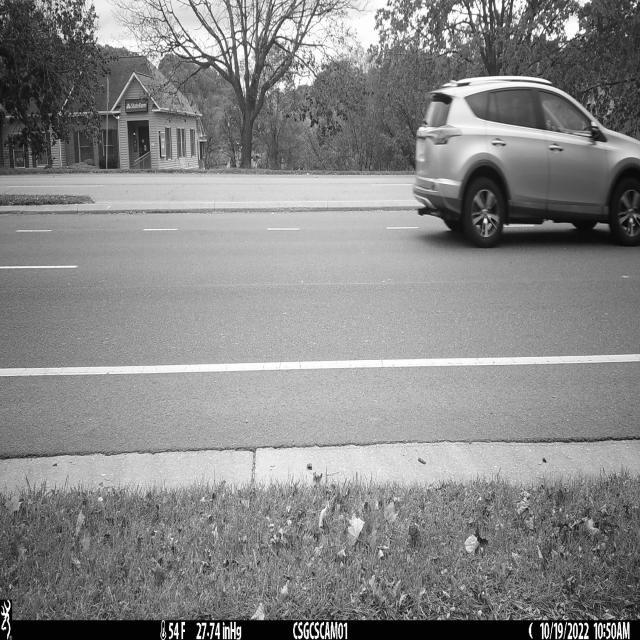SUV: (411, 75, 640, 249)
